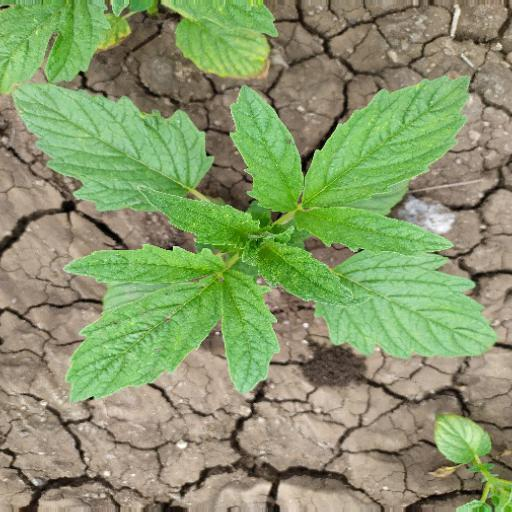crop: (8, 69, 502, 404)
